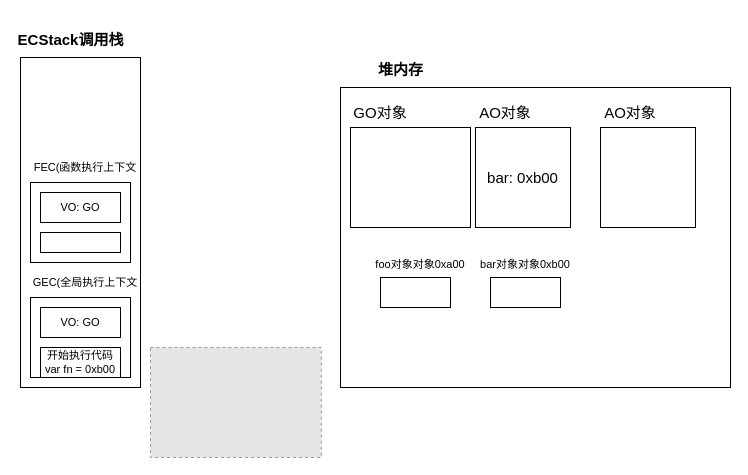
This 748x475 diagram has some shape labels left out. Grey dashed boxes stand in for pictures. Here are the shapes that lost their labels. From the top down, the box of each, then its label:
(350, 126, 470, 228): String setTimeout window foo: 0xa00 fn: 0xb00
(40, 232, 120, 252): 开始执行代码
